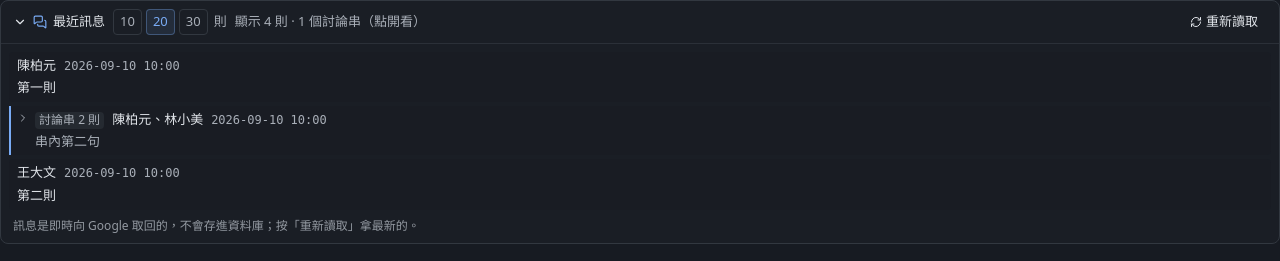
SpaceMessagePreview › 收起來之後看不到訊息，展開鈕的 aria-expanded 跟著變
Click the button "最近訊息" at (59, 22), box x1=13 y1=12 x2=105 y2=32
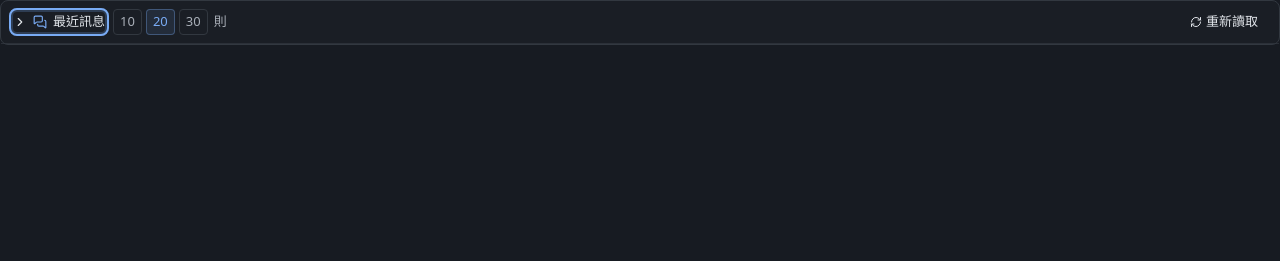
Check: the button "最近訊息" is collapsed, box x1=13 y1=12 x2=105 y2=32
Check: the text "第一則" is gone
